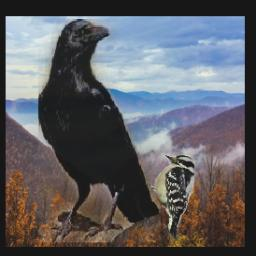Crow: (37, 19, 160, 242)
Woodpecker: (141, 152, 196, 241)
